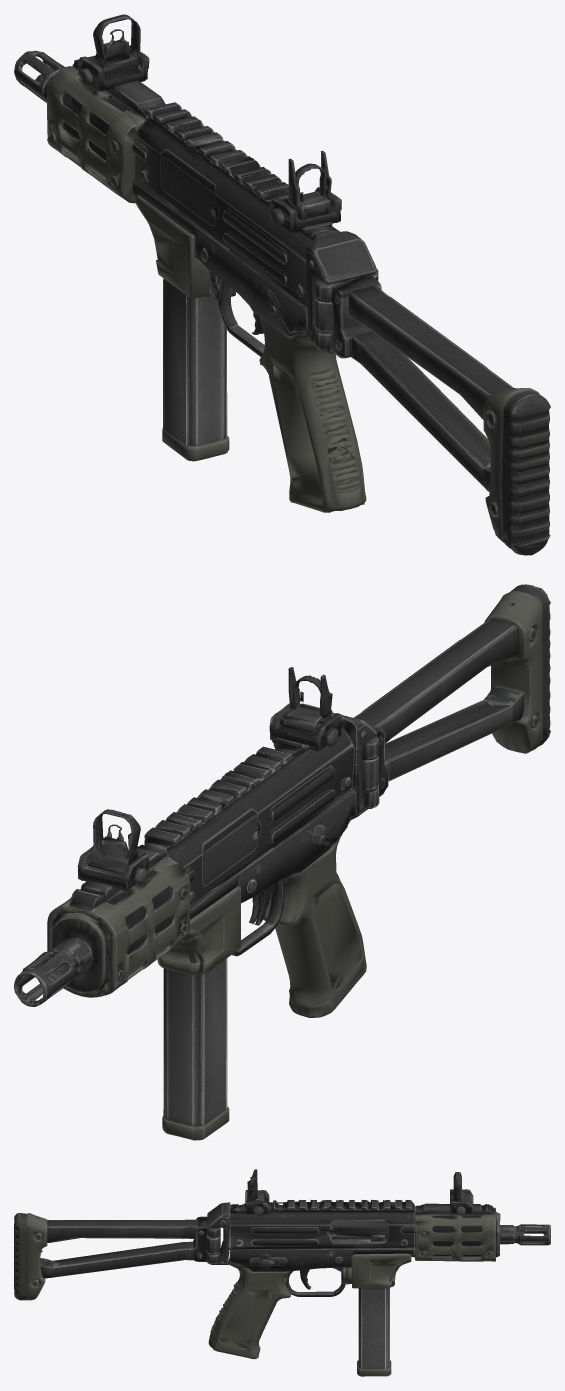
Rendered from weapon-hornet.glb.
3 renders of one model, top to bottom at view 1: azimuth 30°, elevation 25°; view 2: azimuth 150°, elevation 25°; view 3: azimuth 270°, elevation 25°, orthographic. The views are drawn at different scales.
Visible parts, largest first — view 1: hornet, Magazine; view 2: hornet, Magazine; view 3: hornet, Magazine.
Boxes of the visible parts, left/top/right/bottom form: hornet: left=14, top=14, right=550, bottom=555; Magazine: left=162, top=278, right=229, bottom=461; hornet: left=14, top=584, right=550, bottom=1017; Magazine: left=162, top=958, right=229, bottom=1140; hornet: left=14, top=1169, right=550, bottom=1359; Magazine: left=357, top=1288, right=391, bottom=1376.
Size of the model in its own units: 0.0503 by 0.2523 by 0.62.
1 material, 1 textured.
